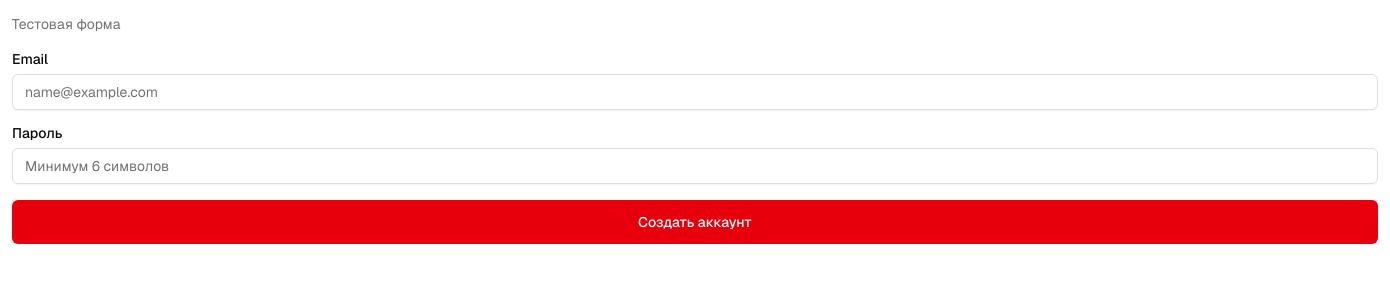
Test: AuthForm › shows a validation error and prevents submission for invalid values
The width and height of the screenshot is (1390, 300).
Type "member@example.com" into the field labelled "Email" at (695, 92), box [12,74,1378,110]
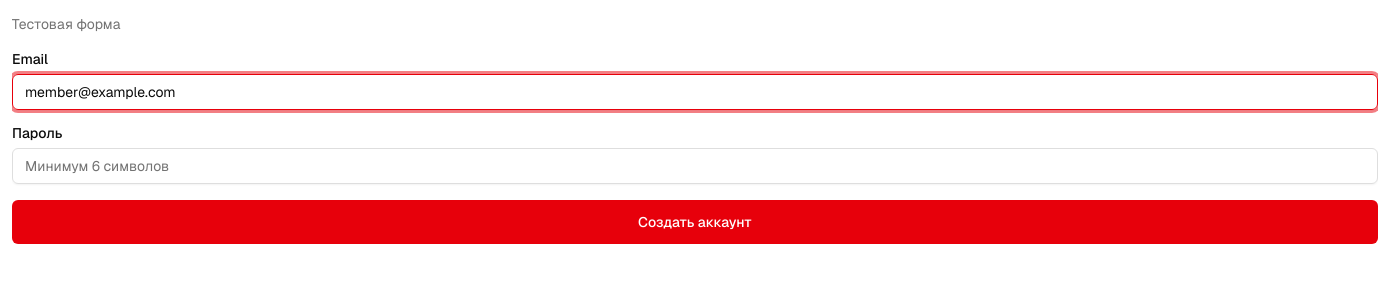
Type "123" into the password field labelled "Пароль" at (695, 166), box [12,148,1378,184]
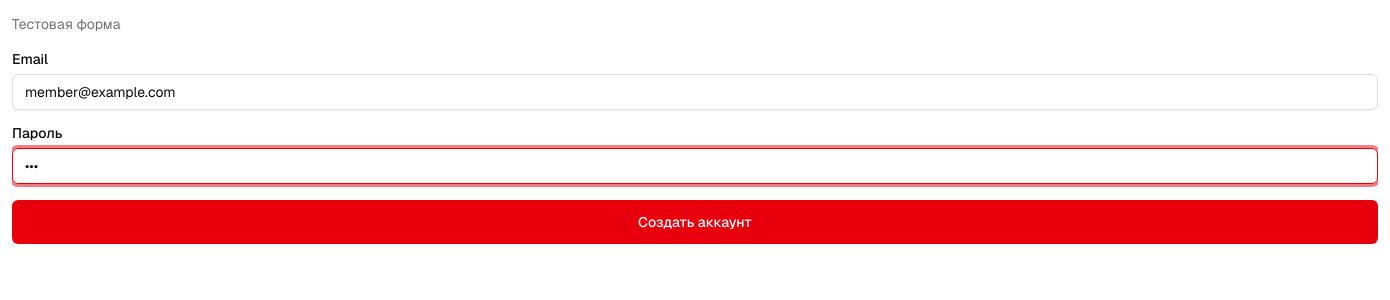
Click the button "Создать аккаунт" at (695, 222), box [12,200,1378,244]
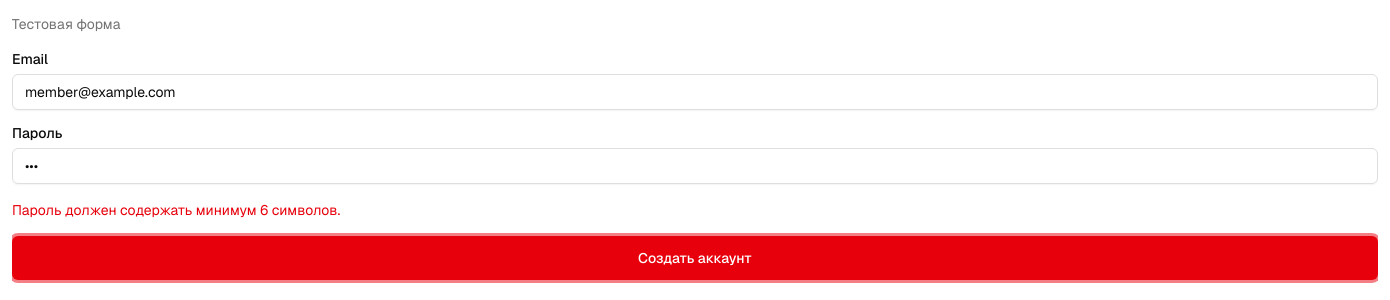
Expected: the text "Пароль должен содержать минимум 6 символов." is shown, [12,201,340,219]
